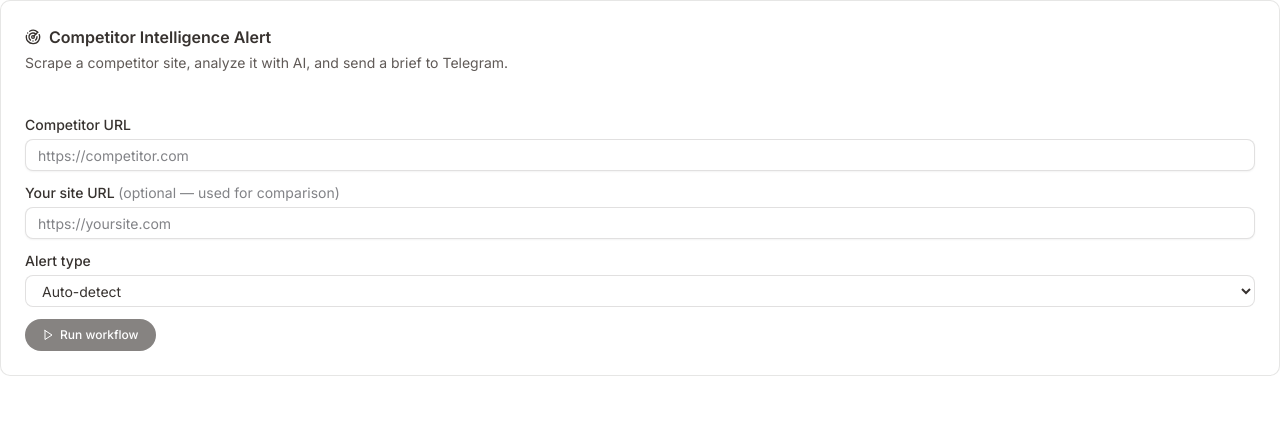
Test case: CompetitorAlertPanel › shows an error message on network failure
This screenshot has width=1280, height=439.
In the field with test id "competitor-url-input": (640, 155) x1=25 y1=139 x2=1255 y2=171, type "https://rival.com"
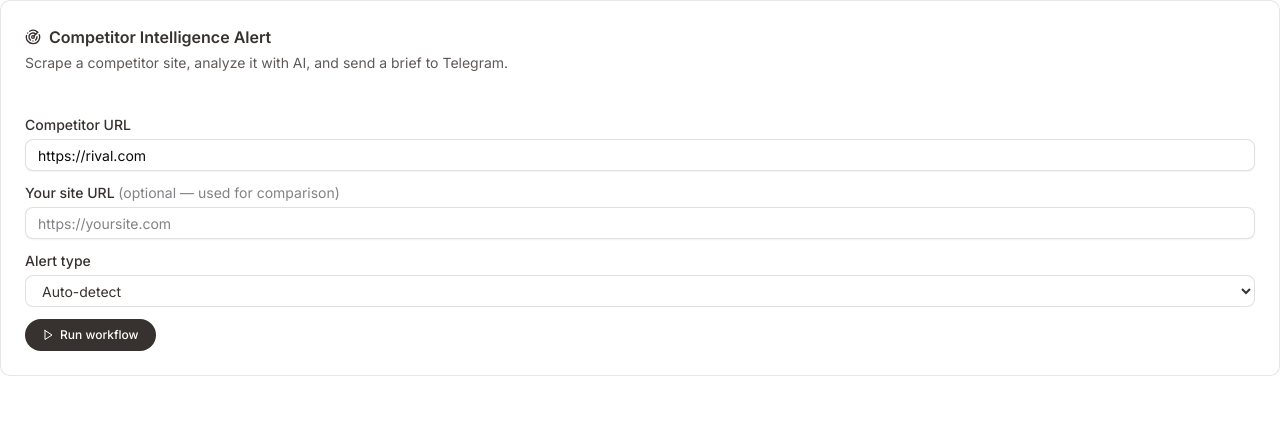
Click the button with test id "run-workflow-button": (90, 335) x1=25 y1=319 x2=156 y2=351
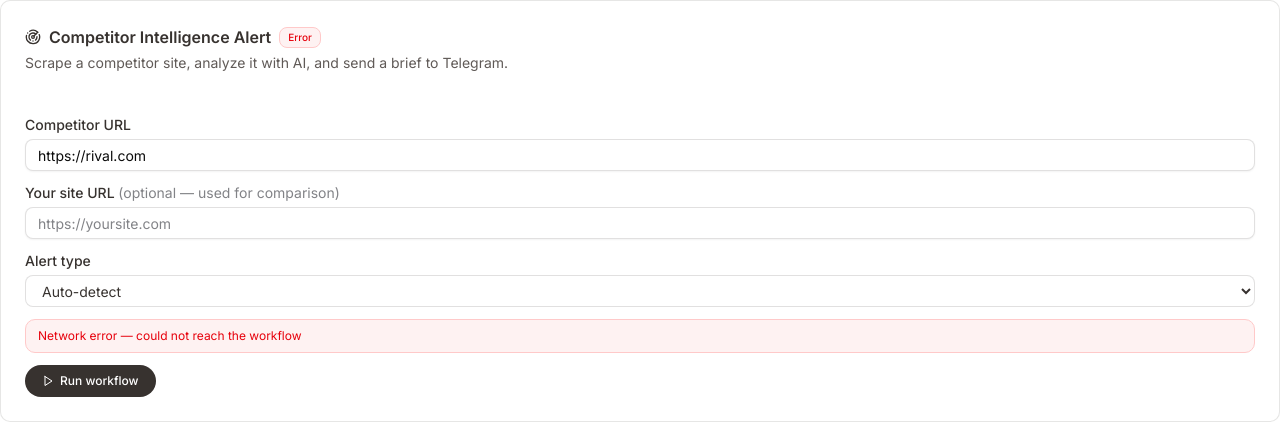
Now the text "Network error — could not reach the workflow" is shown, box x1=25 y1=319 x2=1255 y2=353
